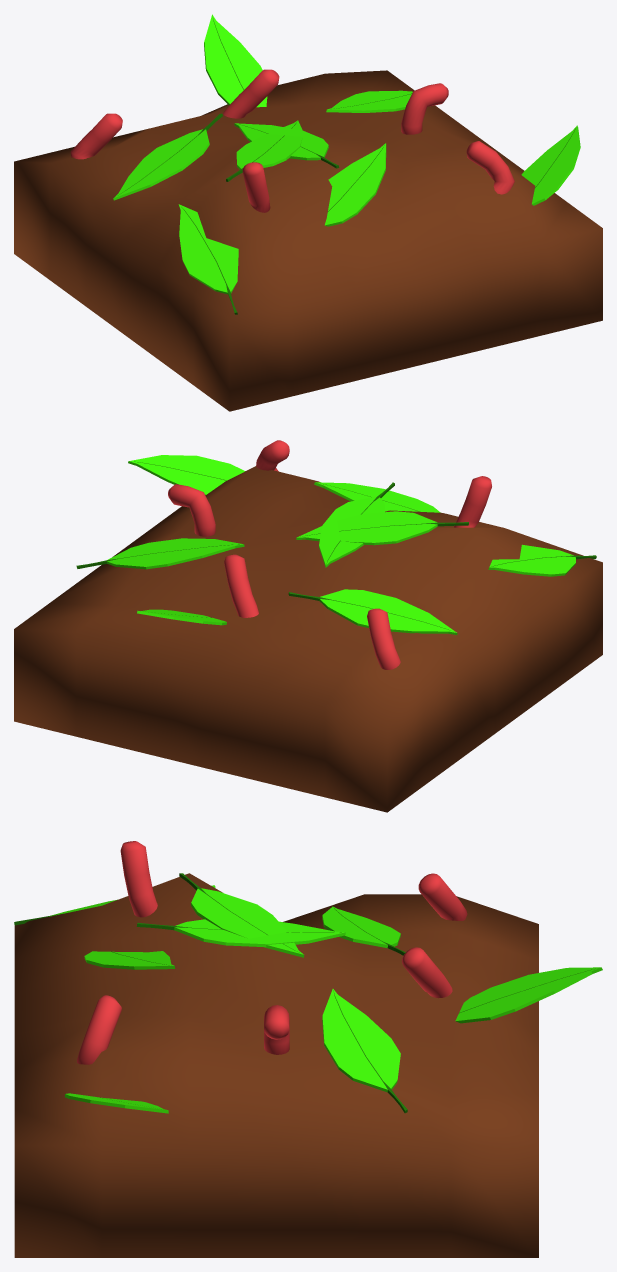
File: organicMatter.fbx
The picture shows the model from 3 angles, top to bottom: view 1: azimuth 30°, elevation 25°; view 2: azimuth 150°, elevation 25°; view 3: azimuth 270°, elevation 25°; orthographic projection. The views are drawn at different scales.
Parts seen in each view (by area): view 1: Cube, Plane, Plane.007, Plane.002, Plane.006, Plane.001, Plane.003, Plane.004, Plane.005, Cylinder, Cylinder.004, Cylinder.001 (+2 smaller); view 2: Cube, Plane.006, Plane.003, Plane.005, Plane.001, Plane.004, Plane, Plane.002, Cylinder, Cylinder.004, Cylinder.003, Cylinder.002 (+2 smaller); view 3: Cube, Plane.005, Plane.007, Plane.003, Plane.004, Plane.006, Cylinder.002, Cylinder.001, Plane.002, Cylinder.004, Cylinder.003, Cylinder (+1 smaller).
Part boxes in pixels (left/top/right/bottom): Cube: left=14, top=70, right=602, bottom=411; Plane: left=178, top=204, right=238, bottom=314; Plane.007: left=204, top=14, right=267, bottom=107; Plane.002: left=324, top=143, right=386, bottom=226; Plane.006: left=113, top=113, right=222, bottom=200; Plane.001: left=521, top=125, right=580, bottom=205; Plane.003: left=226, top=120, right=302, bottom=181; Plane.004: left=234, top=123, right=339, bottom=168; Plane.005: left=326, top=90, right=412, bottom=112; Cylinder: left=401, top=83, right=448, bottom=134; Cylinder.004: left=223, top=69, right=279, bottom=118; Cylinder.001: left=466, top=141, right=514, bottom=194; Cube: left=14, top=466, right=602, bottom=812; Plane.006: left=288, top=589, right=457, bottom=634; Plane.003: left=296, top=511, right=468, bottom=545; Plane.005: left=76, top=538, right=244, bottom=569; Plane.001: left=128, top=455, right=245, bottom=495; Plane.004: left=319, top=482, right=394, bottom=567; Plane: left=488, top=544, right=596, bottom=576; Plane.002: left=314, top=482, right=440, bottom=512; Cylinder: left=168, top=484, right=215, bottom=536; Cylinder.004: left=224, top=554, right=258, bottom=617; Cylinder.003: left=367, top=608, right=400, bottom=669; Cylinder.002: left=454, top=476, right=491, bottom=527; Cube: left=14, top=873, right=538, bottom=1257; Plane.005: left=322, top=989, right=407, bottom=1113; Plane.007: left=455, top=967, right=602, bottom=1023; Plane.003: left=179, top=873, right=304, bottom=957; Plane.004: left=136, top=919, right=345, bottom=947; Plane.006: left=322, top=906, right=405, bottom=955; Cylinder.002: left=120, top=841, right=157, bottom=917; Cylinder.001: left=77, top=995, right=121, bottom=1064; Plane.002: left=84, top=951, right=175, bottom=969; Cylinder.004: left=402, top=947, right=452, bottom=998; Cylinder.003: left=418, top=873, right=467, bottom=920; Cylinder: left=264, top=1005, right=289, bottom=1054.
Bounding box in the file's own units: 3.58 × 3.63 × 1.61.
